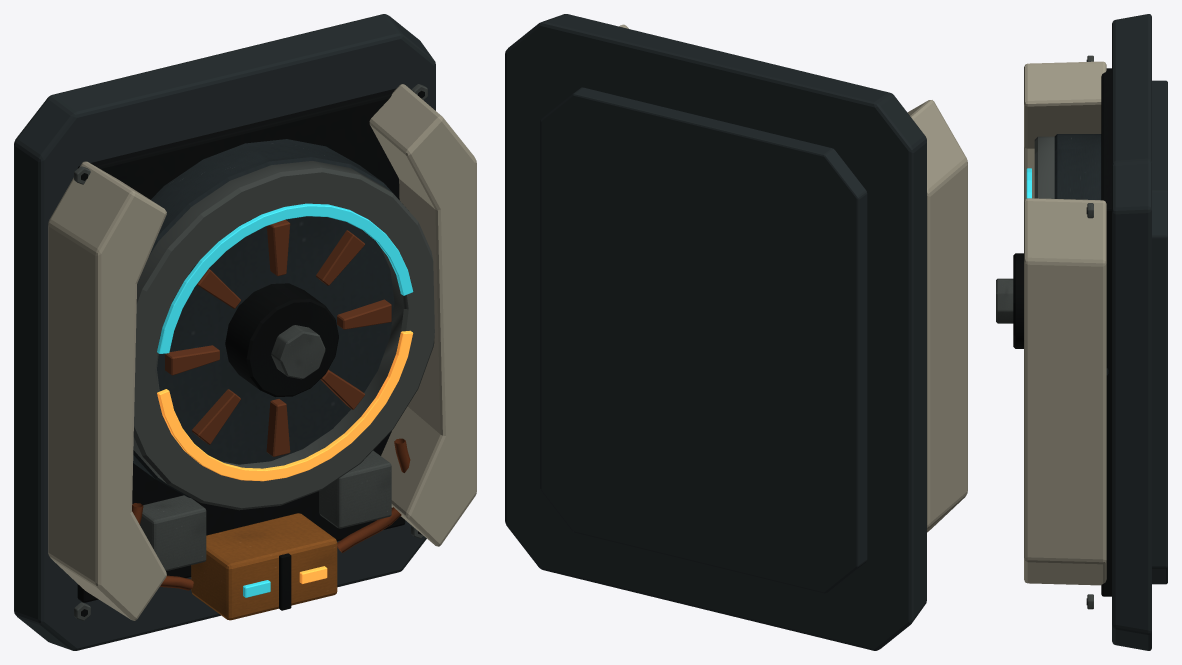
The model's file is alternator.glb.
The picture shows the model from 3 angles, left to right: view 1: azimuth 30°, elevation 25°; view 2: azimuth 150°, elevation 25°; view 3: azimuth 270°, elevation 25°; orthographic projection. The views are drawn at different scales.
Parts seen in each view (by area): view 1: steel, ivory, edge, rubber, paint, copper, amber, cyan; view 2: steel, ivory; view 3: ivory, steel, rubber, edge.
Part boxes in pixels (x1,y1,x2,y2): steel: (14, 14, 435, 650); ivory: (48, 84, 476, 620); edge: (74, 84, 434, 620); rubber: (77, 88, 424, 616); paint: (191, 513, 337, 620); copper: (132, 219, 410, 590); amber: (157, 330, 413, 583); cyan: (157, 203, 413, 597); steel: (505, 14, 926, 650); ivory: (619, 24, 967, 532); ivory: (1024, 61, 1106, 585); steel: (1054, 14, 1167, 650); rubber: (1013, 60, 1111, 604); edge: (996, 55, 1093, 609).
Bounding box in the file's own units: 0.1586 × 0.2036 × 0.0645.
Materials: 8 (6 with a texture image).
